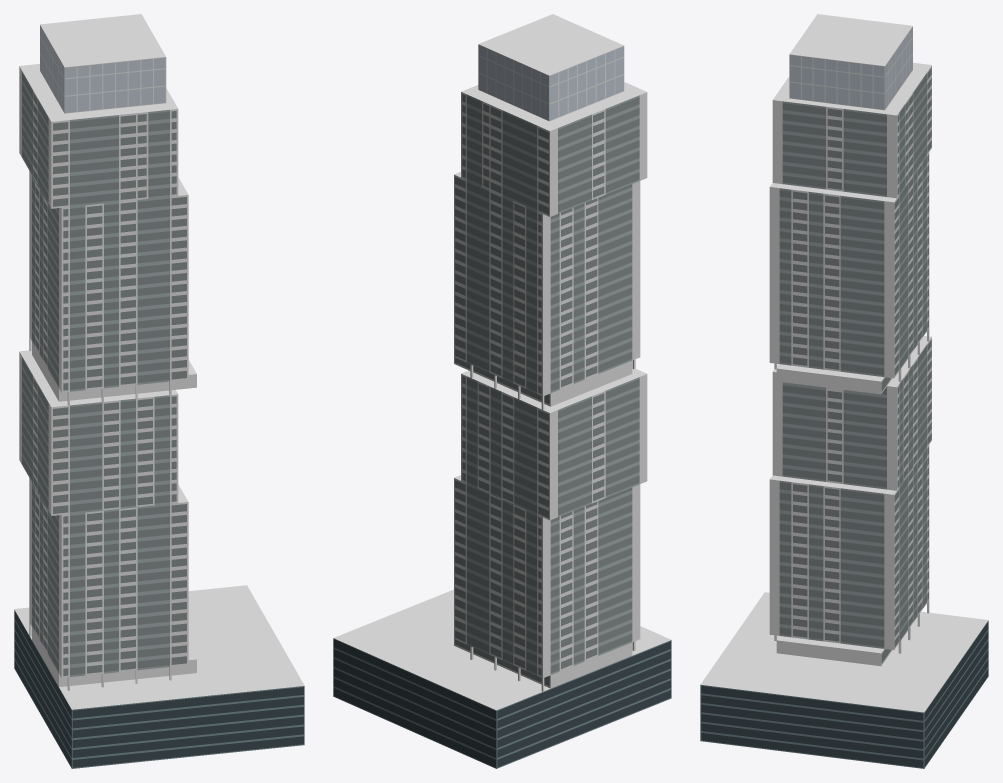
Rendered from the_independent.gltf.
3 views of the same model, side by side, from view 1: azimuth 30°, elevation 25°; view 2: azimuth 150°, elevation 25°; view 3: azimuth 270°, elevation 25° (orthographic). The views are drawn at different scales.
Parts seen in each view (by area): view 1: The Independent; view 2: The Independent; view 3: The Independent.
Boxes of the visible parts, x1,y1,x2,y2 form: The Independent: (14, 14, 304, 768); The Independent: (333, 14, 671, 768); The Independent: (700, 14, 988, 768).
Size of the model in its own units: 83.68 by 209 by 84.71.
